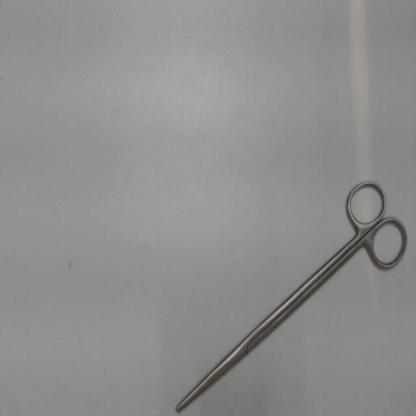9 Metzenbaum Scissors: (173, 176, 410, 415)
